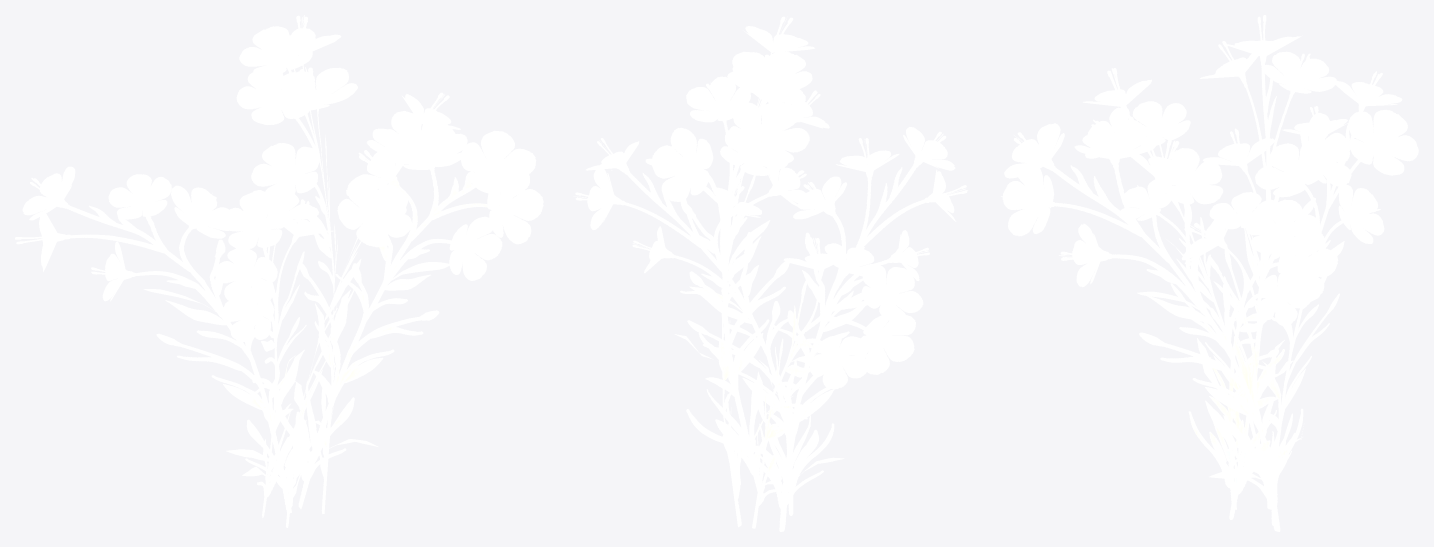
3 renders of one model, left to right at view 1: azimuth 30°, elevation 25°; view 2: azimuth 150°, elevation 25°; view 3: azimuth 270°, elevation 25°, orthographic. The views are drawn at different scales.
Parts seen in each view (by area): view 1: SM_Flax_Dead_02_LOD0; view 2: SM_Flax_Dead_02_LOD0; view 3: SM_Flax_Dead_02_LOD0.
Boxes of the visible parts, x1,y1,x2,y2 form: SM_Flax_Dead_02_LOD0: [15, 15, 543, 527]; SM_Flax_Dead_02_LOD0: [573, 16, 967, 531]; SM_Flax_Dead_02_LOD0: [1001, 15, 1418, 531].
Bounding box in the file's own units: 0.8873 × 1.07 × 0.8138.
